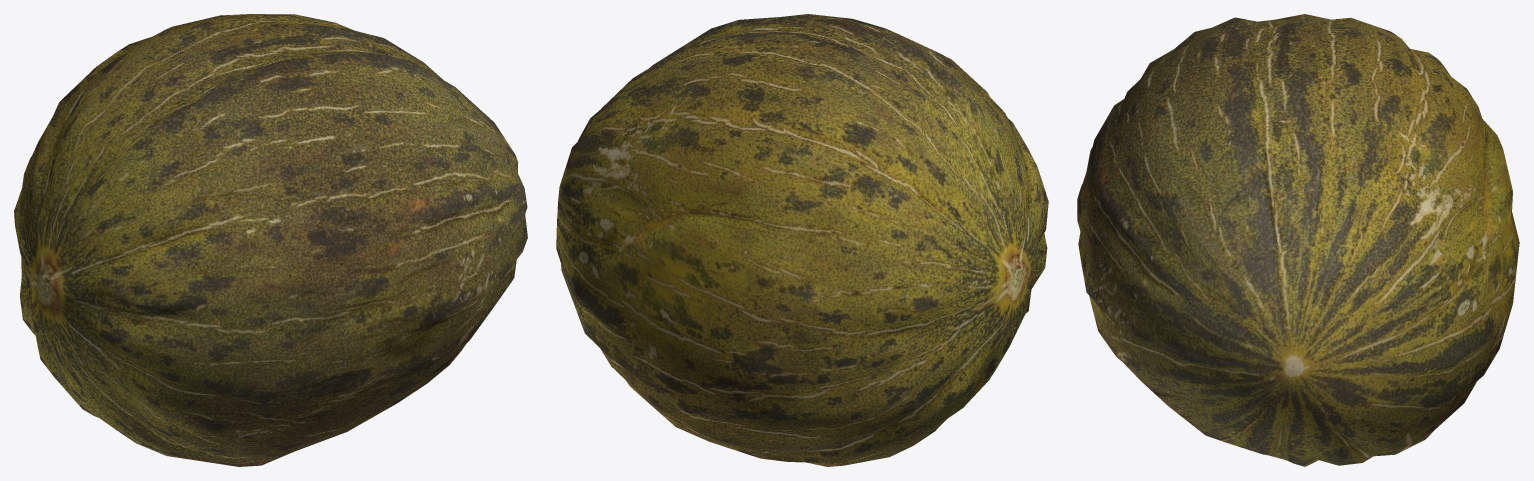
Rendered from melon.gltf.
3 views of the same model, side by side, from view 1: azimuth 30°, elevation 25°; view 2: azimuth 150°, elevation 25°; view 3: azimuth 270°, elevation 25° (orthographic). The views are drawn at different scales.
Parts seen in each view (by area): view 1: 46_melon; view 2: 46_melon; view 3: 46_melon.
Part boxes in pixels (x1=…): 46_melon: x1=14, y1=14, x2=527, y2=466; 46_melon: x1=556, y1=14, x2=1048, y2=466; 46_melon: x1=1077, y1=14, x2=1519, y2=466.
Size of the model in its own units: 1.04 by 0.8476 by 0.8608.
1 material, 1 textured.
